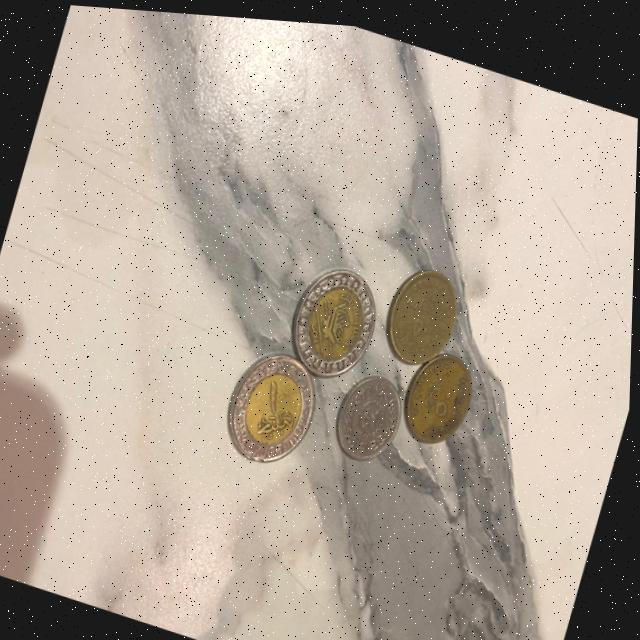Half Pound: (379, 231, 478, 375), (392, 331, 490, 460)
One Pound: (214, 340, 334, 475), (281, 244, 393, 386)
quarter pound: (324, 353, 423, 482)
